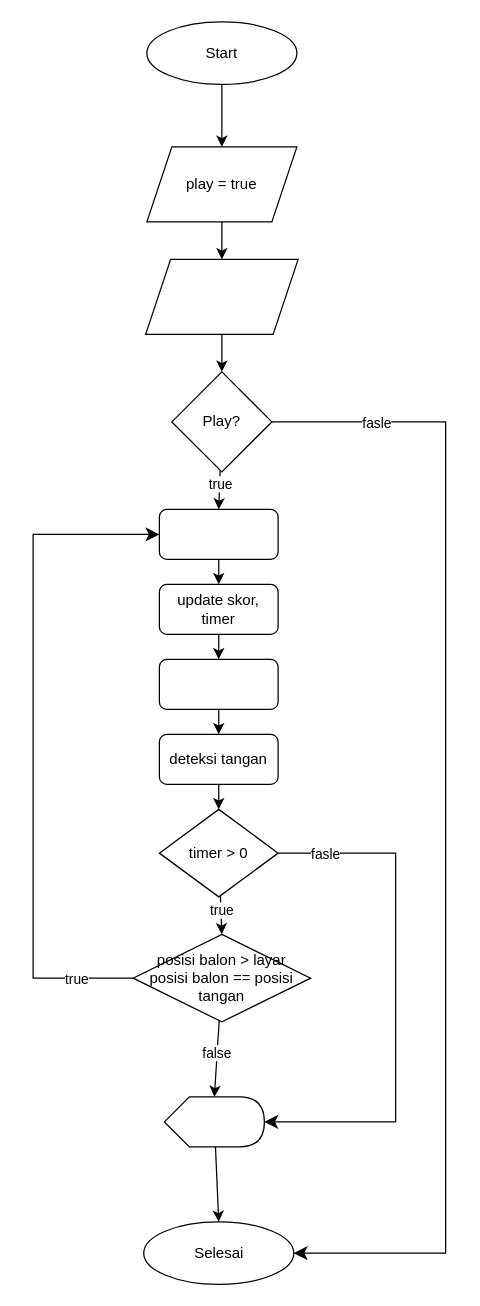
Some shapes in this 480 by 1306 pixel diagram are drawn without their labels. Each missing label, with the box of its shape:
inisialisasi semua objek dan timer: (144, 258, 298, 334)
posisi y balon naik: (158, 658, 278, 709)
reset balon: (158, 508, 278, 559)
tampilkan skor: (163, 1096, 264, 1147)
